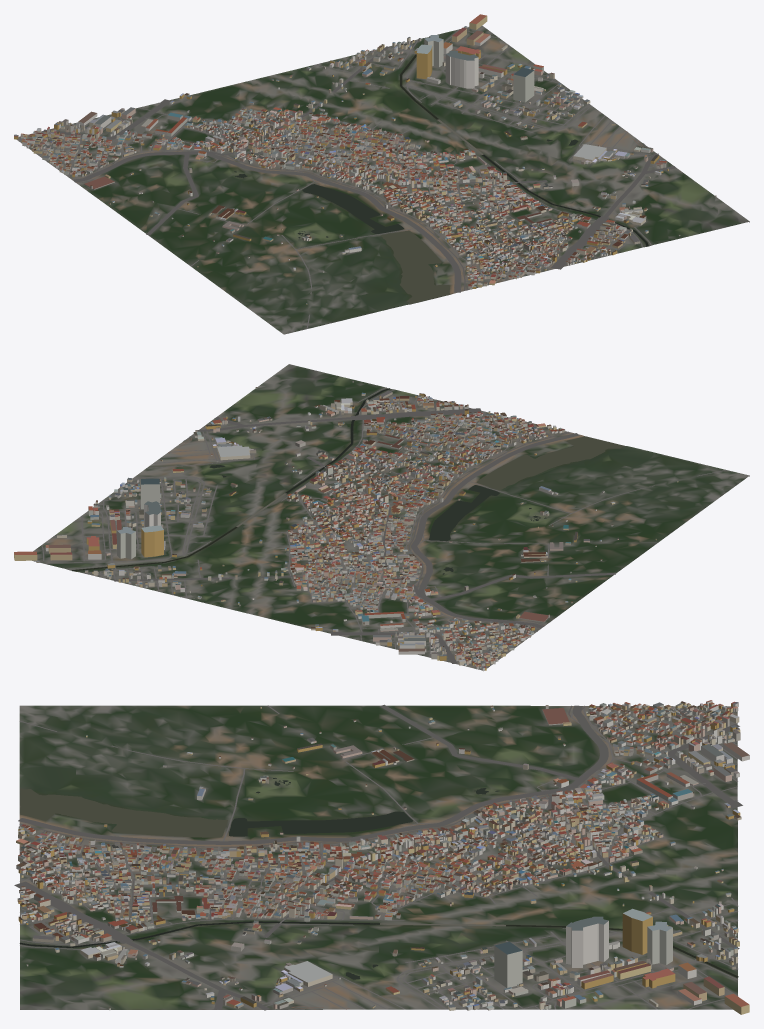
3 renders of one model, top to bottom at view 1: azimuth 30°, elevation 25°; view 2: azimuth 150°, elevation 25°; view 3: azimuth 270°, elevation 25°, orthographic. The views are drawn at different scales.
Parts seen in each view (by area): view 1: ground, buildings, roads, water; view 2: ground, buildings, roads, water; view 3: ground, buildings, roads, water.
Part boxes in pixels (bbox=[...]): ground: bbox=[16, 25, 749, 334]; buildings: bbox=[14, 14, 716, 304]; roads: bbox=[18, 27, 742, 328]; water: bbox=[234, 36, 648, 303]; ground: bbox=[32, 364, 749, 670]; buildings: bbox=[14, 381, 678, 671]; roads: bbox=[34, 369, 726, 669]; water: bbox=[72, 388, 624, 574]; ground: bbox=[19, 705, 737, 1009]; buildings: bbox=[16, 700, 749, 1014]; roads: bbox=[14, 704, 742, 1010]; water: bbox=[19, 778, 738, 979].
Size of the model in its own units: 1430 by 84.66 by 1437.
